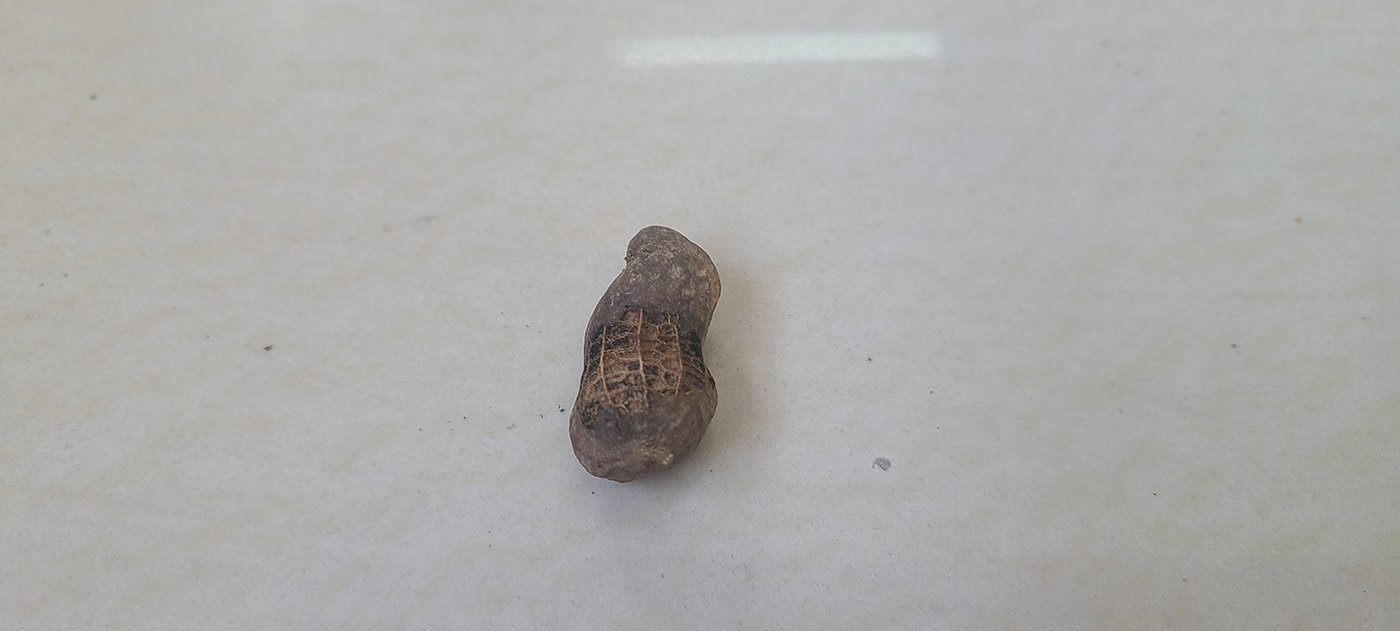l: (571, 222, 723, 483)
